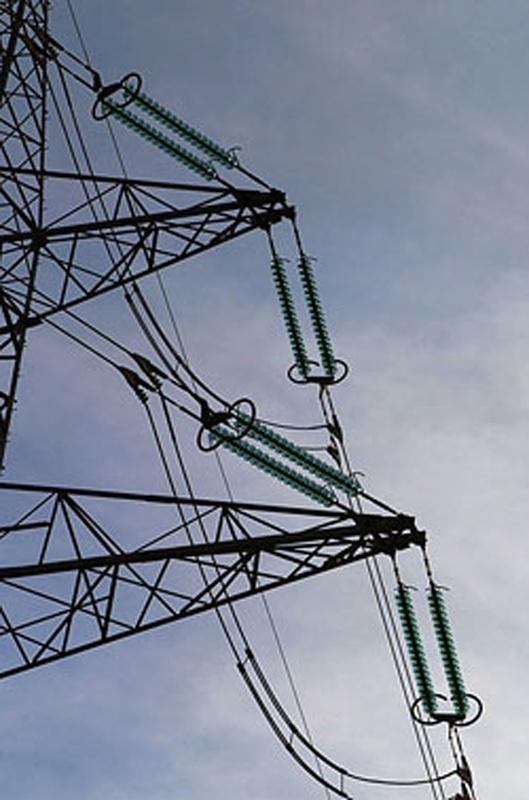power_tower: (2, 2, 409, 676)
